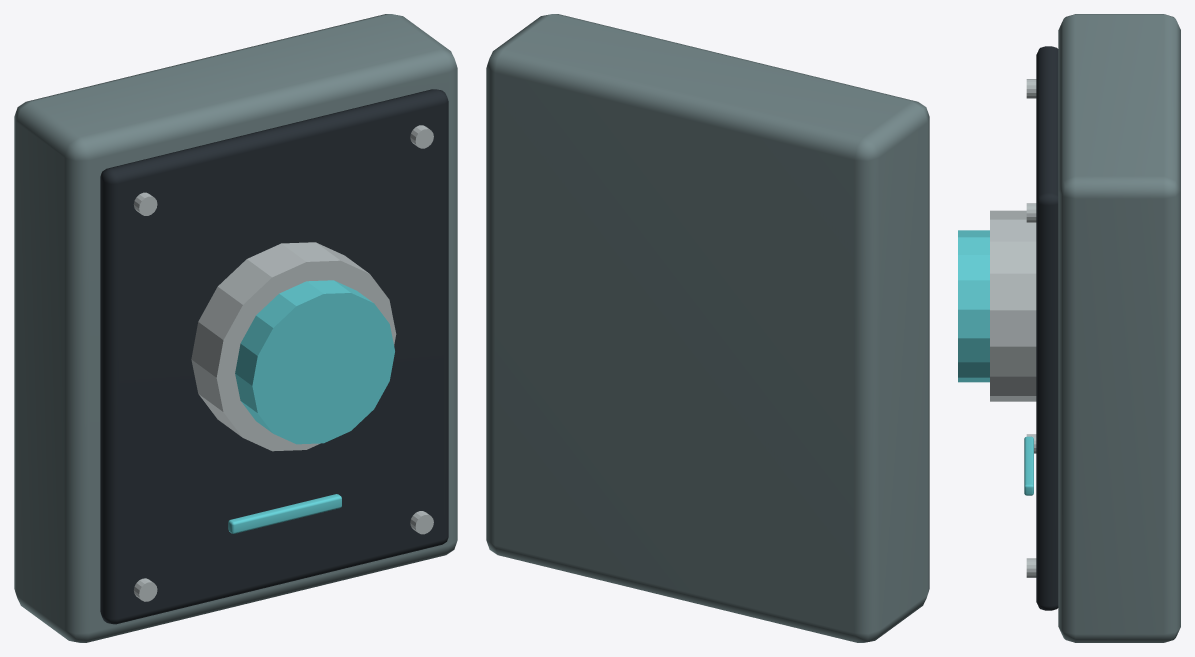
The model's file is HF_ServicePanel.fbx.
3 views of the same model, side by side, from view 1: azimuth 30°, elevation 25°; view 2: azimuth 150°, elevation 25°; view 3: azimuth 270°, elevation 25° (orthographic). The views are drawn at different scales.
Parts seen in each view (by area): view 1: Chassis.004, Indicators.004; view 2: Chassis.004; view 3: Chassis.004, Indicators.004.
Part boxes in pixels (box(x1,y1,x2,y2)): Chassis.004: box(14, 14, 457, 642); Indicators.004: box(228, 280, 394, 533); Chassis.004: box(486, 14, 929, 642); Chassis.004: box(990, 14, 1180, 642); Indicators.004: box(958, 230, 1033, 495).
Size of the model in its own units: 17 by 21 by 9.1.
